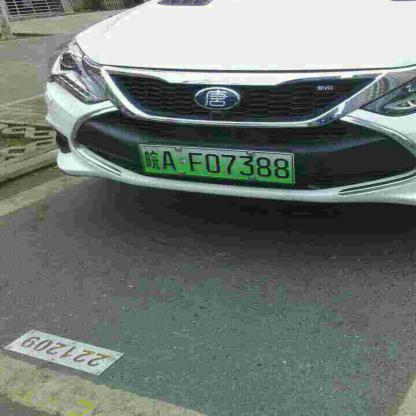lp: (138, 144, 294, 184)
